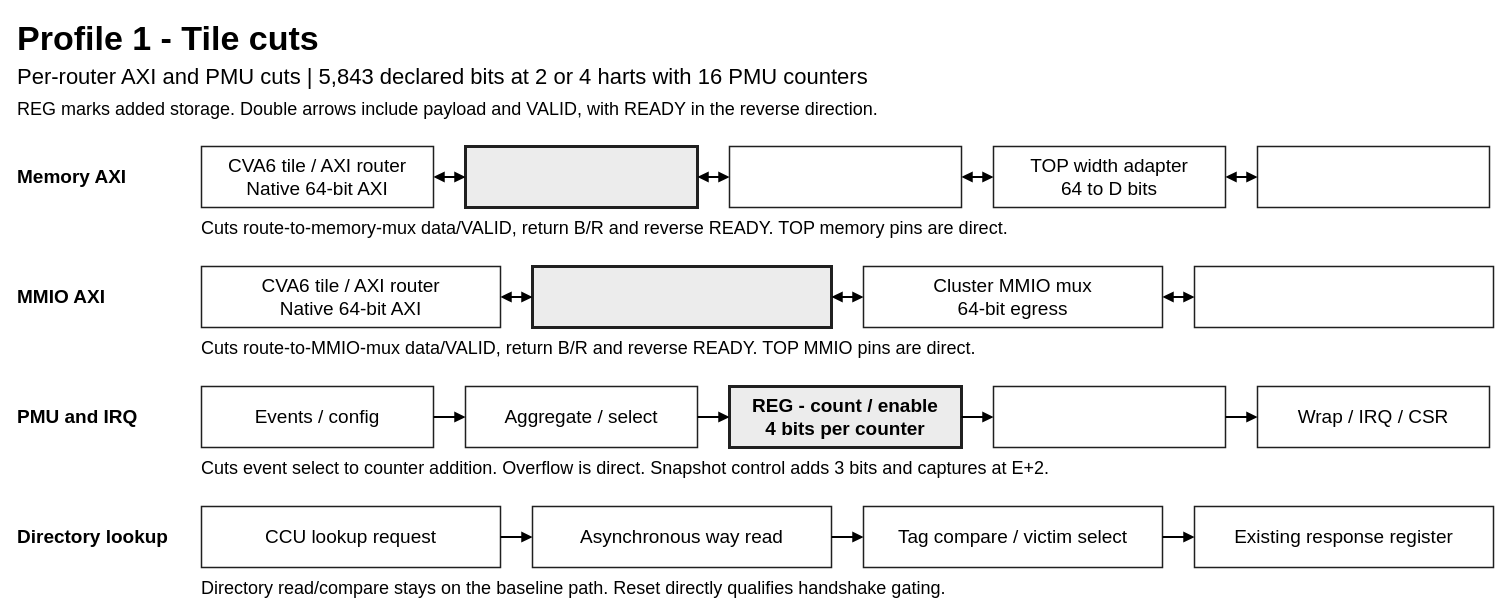
Some shapes in this 1511 by 616 pixel diagram are drawn without their labels. The centre of each missing label's shape, as x and y in pixels:
Existing counter bank: pixel 1109 416
Memory mux + LLC 64-bit native: pixel 845 176
REG - tile memory AW / W / B / AR / R: pixel 581 176
REG - tile MMIO AW / W / B / AR / R: pixel 681 296
SoC memory fabric D-bit AXI + AWATOP: pixel 1373 176
SoC peripheral fabric 64-bit AXI: pixel 1343 296
